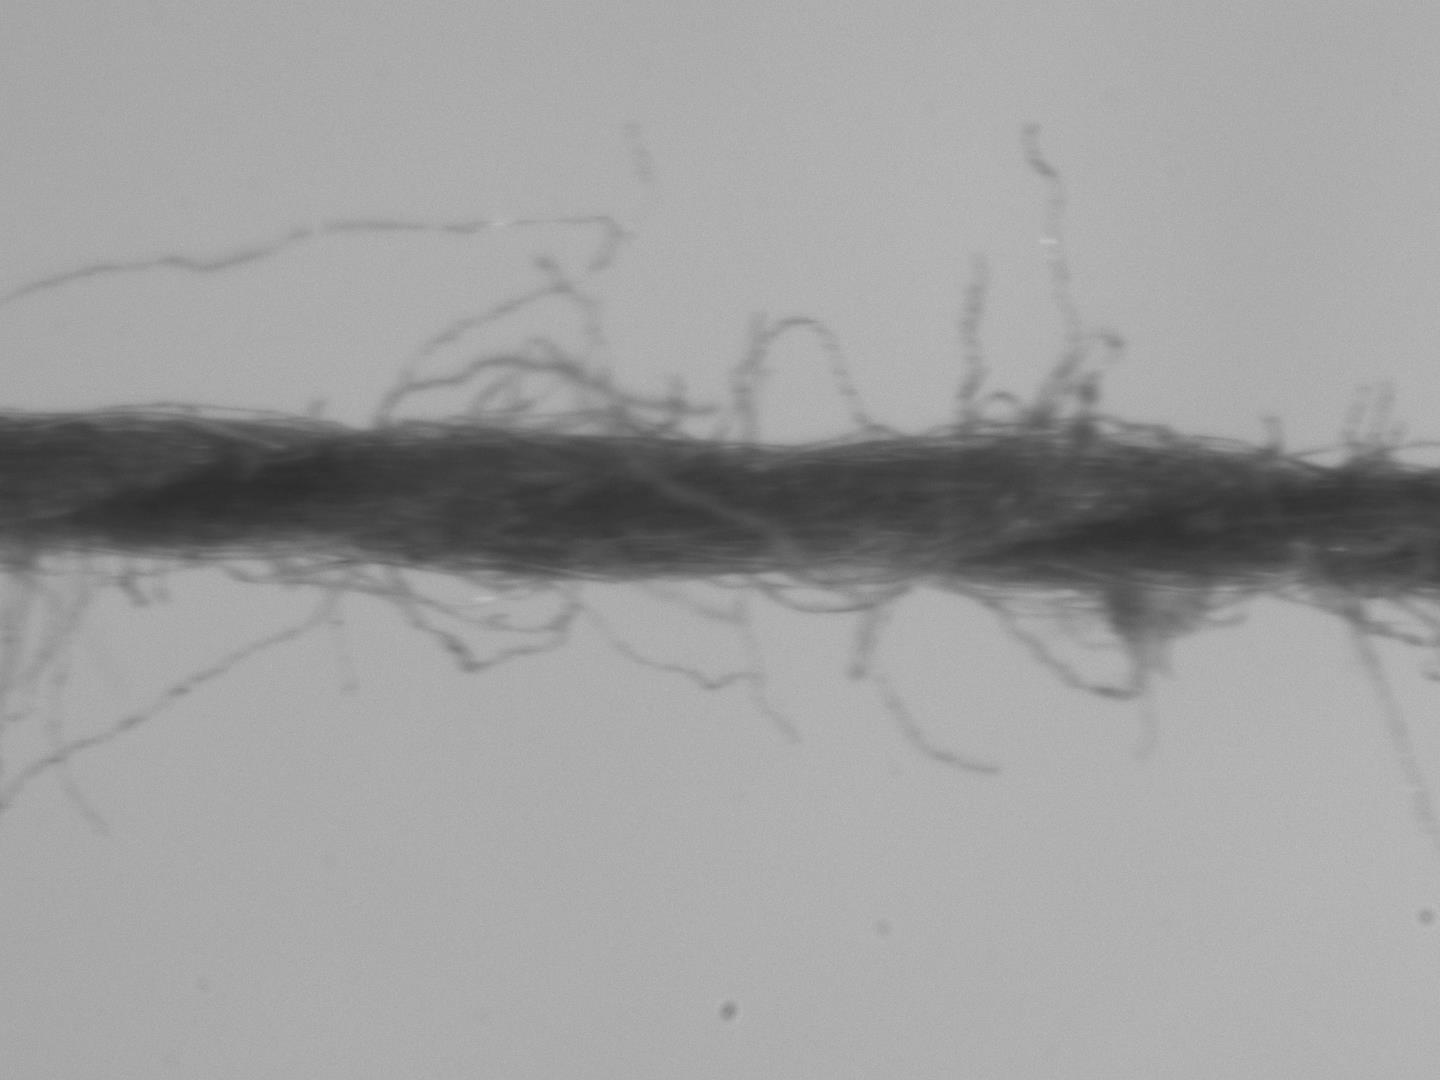loop_fiber: (734, 311, 884, 444)
protruding_fiber: (1015, 113, 1087, 430)
